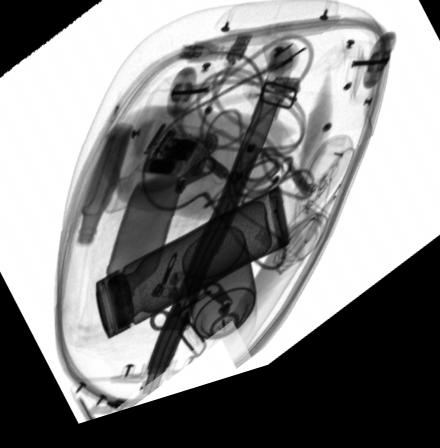Sprayer: (182, 240, 257, 376)
